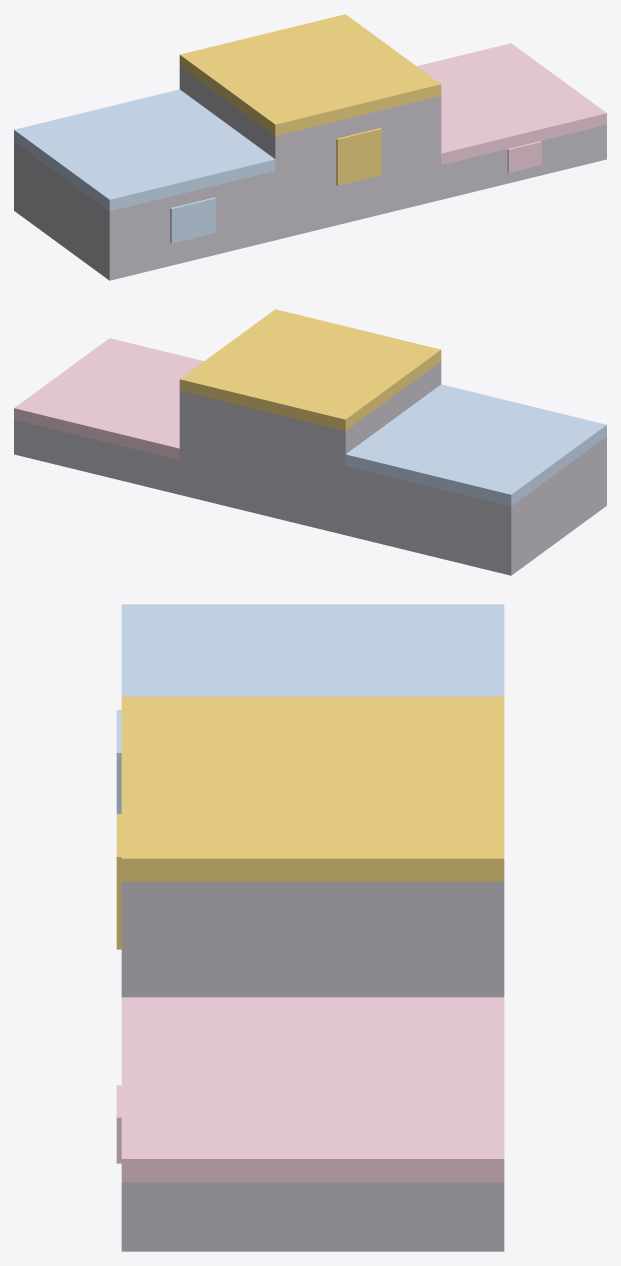
Rendered from SM_Heaven_Podium.glb.
3 views of the same model, one above another, from view 1: azimuth 30°, elevation 25°; view 2: azimuth 150°, elevation 25°; view 3: azimuth 270°, elevation 25° (orthographic). The views are drawn at different scales.
Parts seen in each view (by area): view 1: SM_Heaven_Podium; view 2: SM_Heaven_Podium; view 3: SM_Heaven_Podium.
Part boxes in pixels (x1,y1,x2,y2): SM_Heaven_Podium: [14, 14, 606, 280]; SM_Heaven_Podium: [14, 309, 606, 575]; SM_Heaven_Podium: [116, 604, 504, 1251].
Size of the model in its own units: 4.5 by 1 by 1.52.
